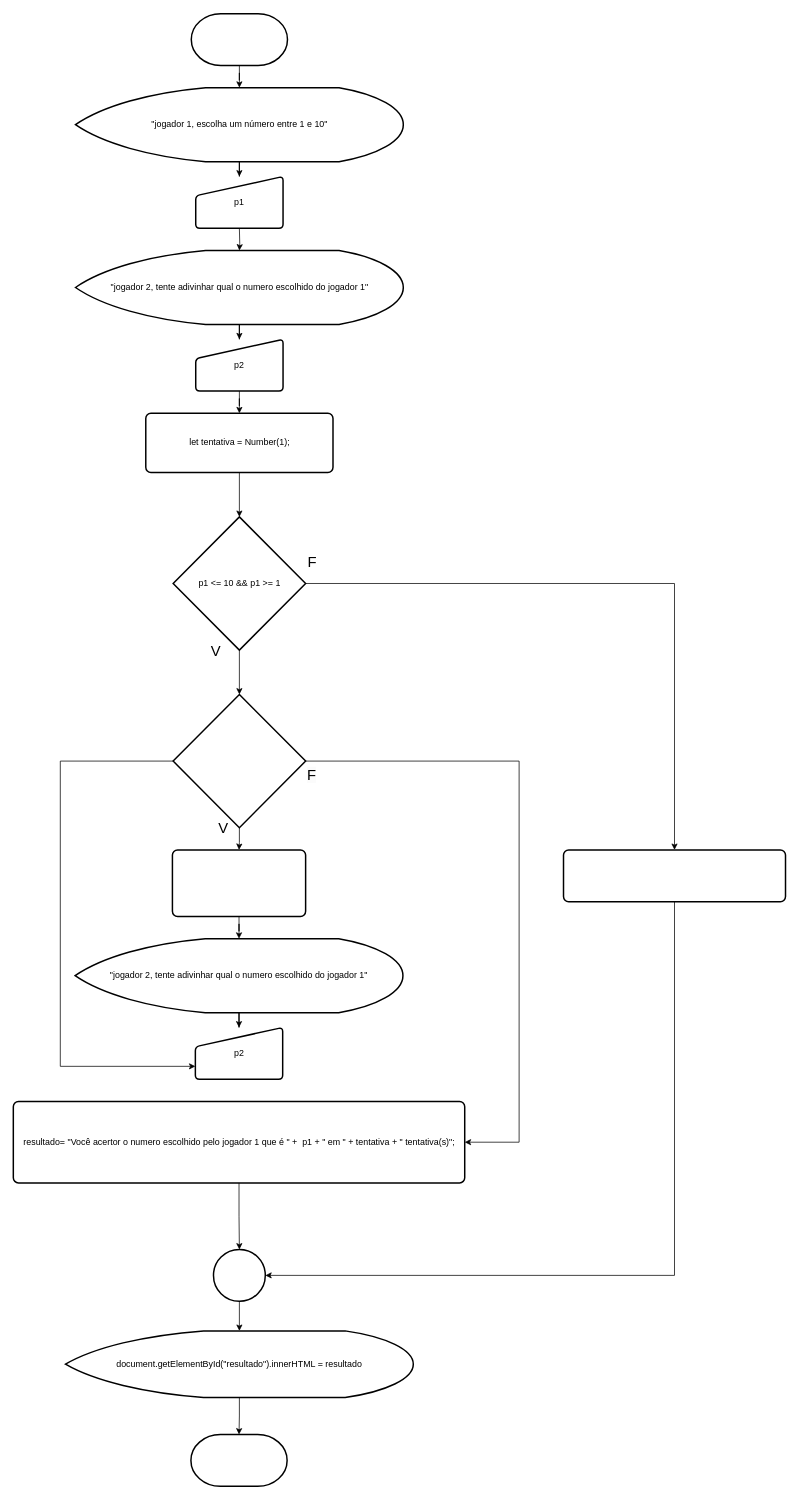
Some shapes in this 799 by 1499 pixel diagram are drawn without their labels. The shapes that lost their labels are listed below. From the top down, each one's box as (x1, y1, x2, y2) in pixels, then its label:
(190, 13, 288, 66): Inicio
(172, 693, 306, 828): p2 !== p1
(171, 849, 306, 917): tentativa = tentativa + 1
(562, 849, 786, 902): resultado = "O jogador 1 digitou um valor invalido"
(190, 1433, 287, 1487): Fim
